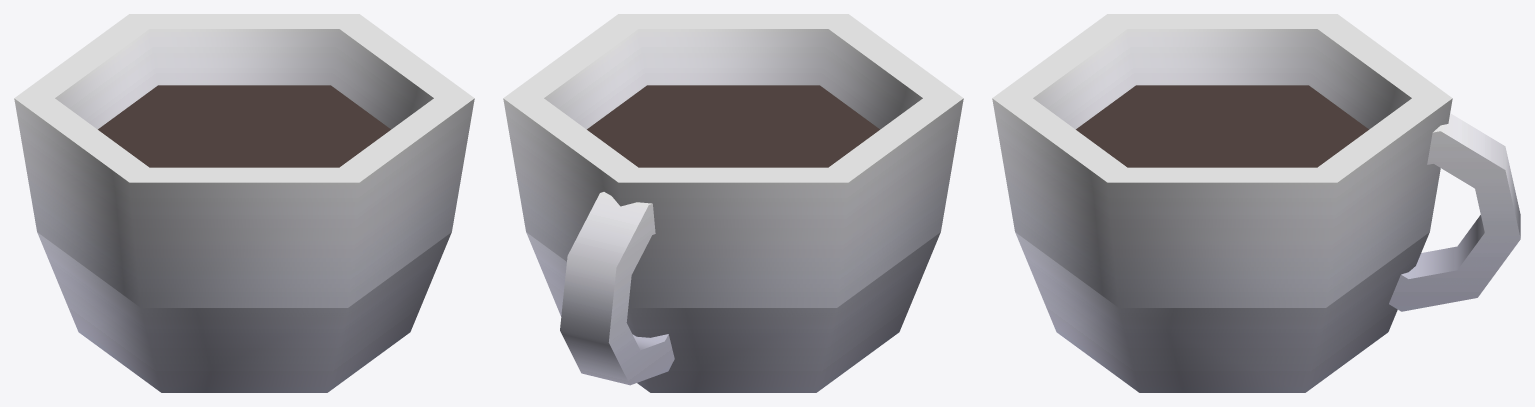
The model's file is cup-coffee.glb.
The picture shows the model from 3 angles, left to right: view 1: azimuth 30°, elevation 25°; view 2: azimuth 150°, elevation 25°; view 3: azimuth 270°, elevation 25°; orthographic projection.
Visible parts, largest first — view 1: cup-coffee; view 2: cup-coffee; view 3: cup-coffee.
Part boxes in pixels (x1,y1,x2,y2): cup-coffee: [14, 14, 474, 392]; cup-coffee: [503, 14, 963, 392]; cup-coffee: [992, 14, 1520, 392].
Size of the model in its own units: 0.2163 by 0.14 by 0.2866.
1 material, 1 textured.
